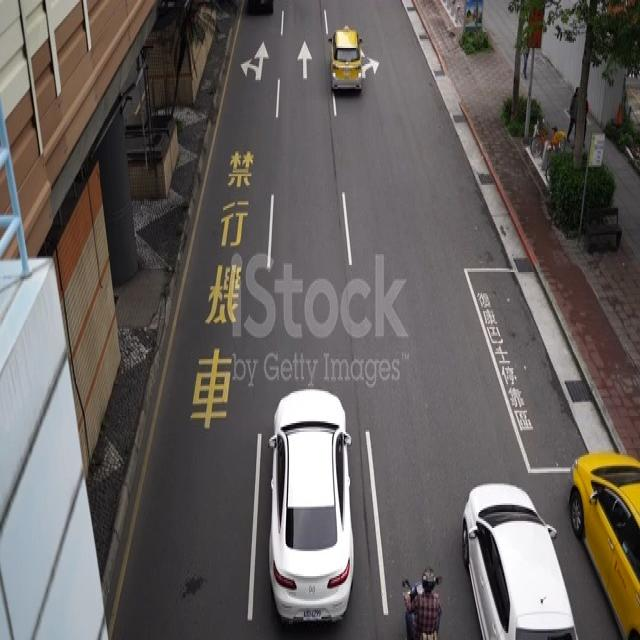Car: (267, 383, 355, 626), (457, 474, 571, 640), (567, 441, 640, 640), (328, 22, 365, 104)
Motorcycle: (400, 554, 444, 640)
